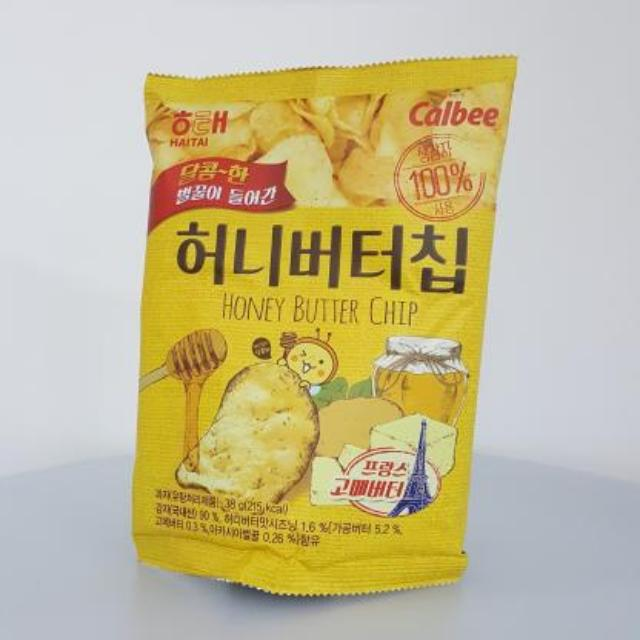snack_bag: (119, 36, 532, 604)
